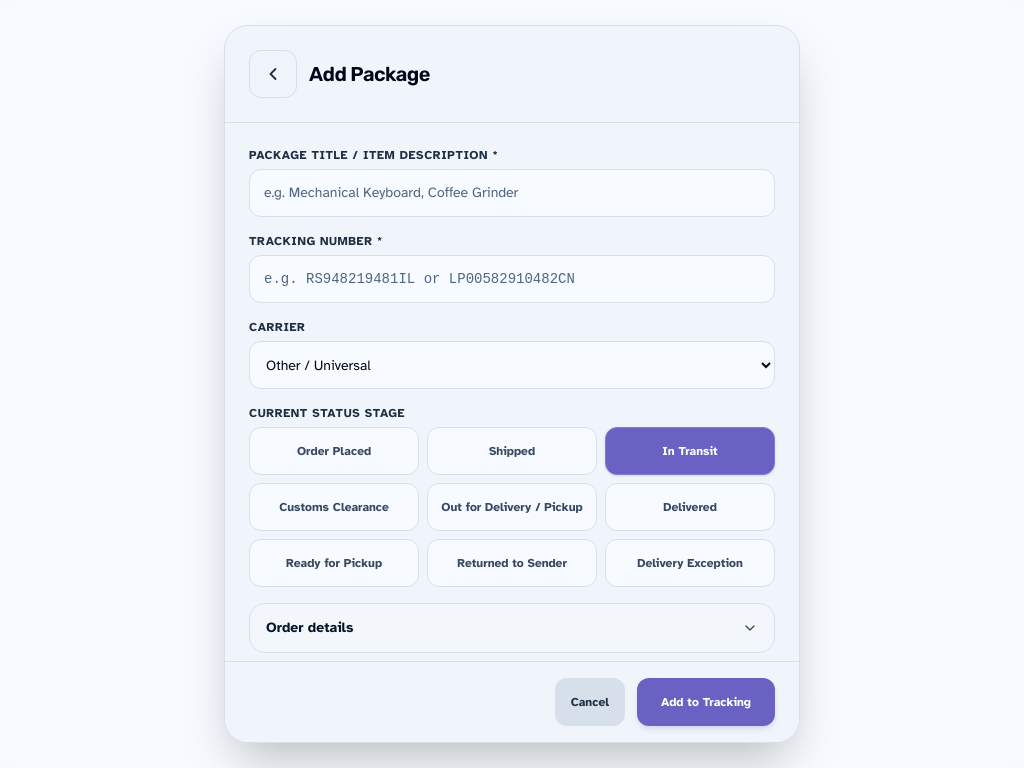
Scenario: AddEditPackageModal (rendered) › optional fields are folded away › opens a drawer on demand
Click the button "Order details". click: click(310, 628)
box: [250,604,774,652]
(page scrolled)
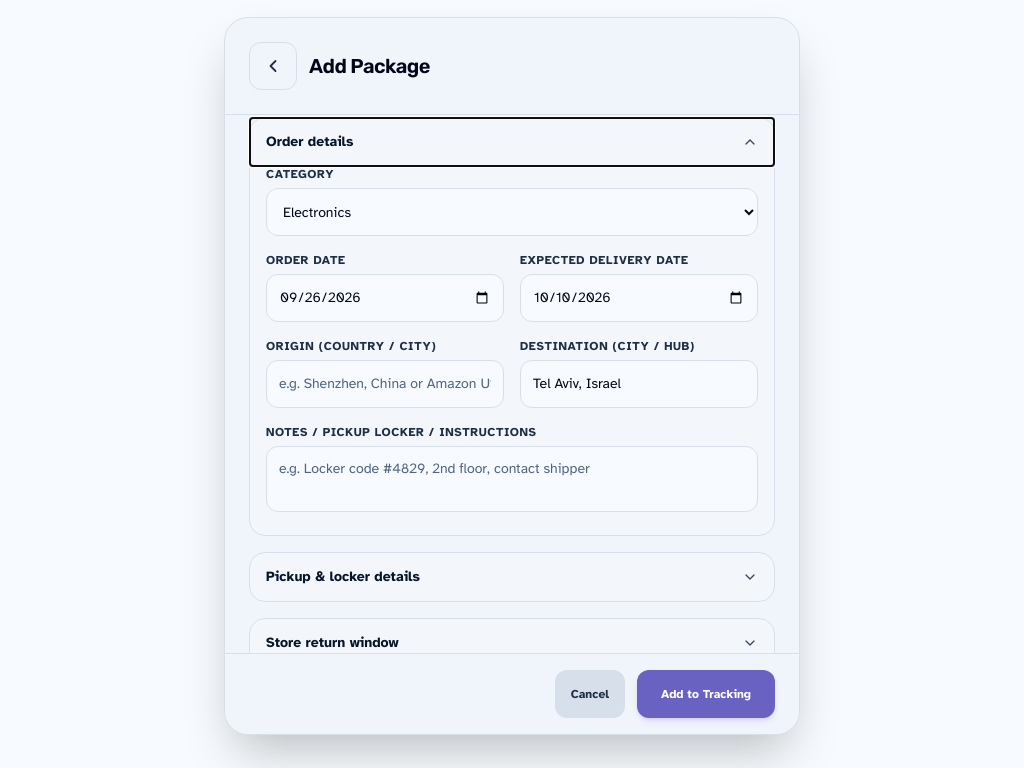
Expected: the field with placeholder "e.g. Shenzhen, China or Amazon US" is shown, [266,360,504,408]
